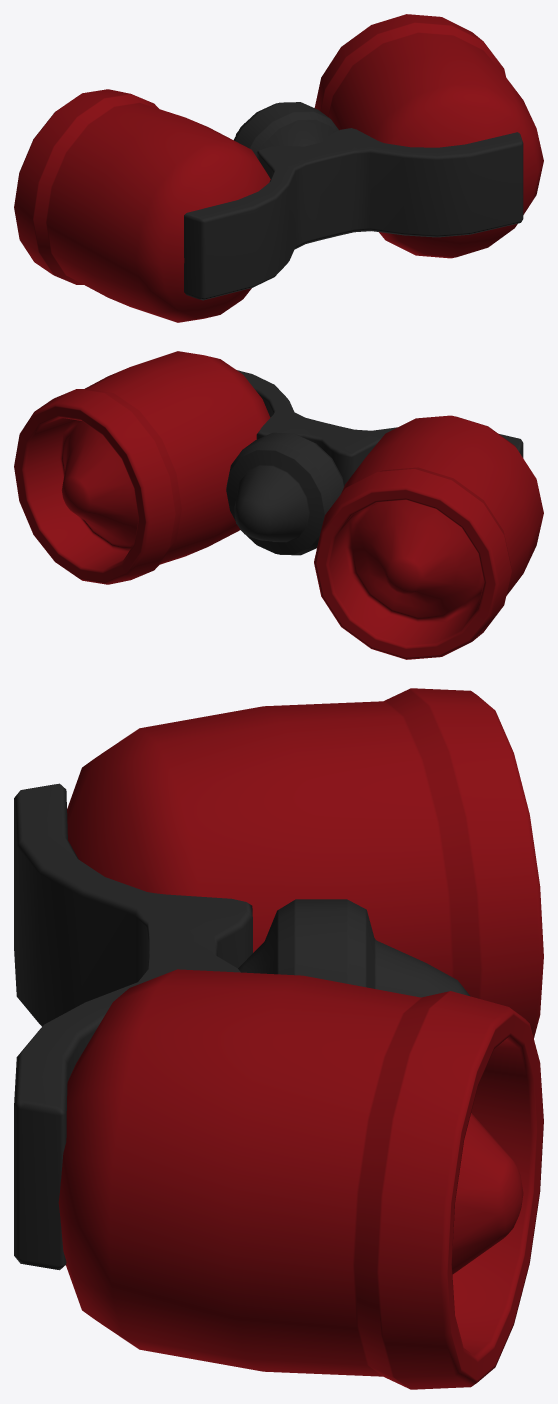
Rendered from Spaceship_main_01_Engine.fbx.
The picture shows the model from 3 angles, top to bottom: view 1: azimuth 30°, elevation 25°; view 2: azimuth 150°, elevation 25°; view 3: azimuth 270°, elevation 25°; orthographic projection. The views are drawn at different scales.
Parts seen in each view (by area): view 1: Spaceship_main_01_Engine; view 2: Spaceship_main_01_Engine; view 3: Spaceship_main_01_Engine.
Part boxes in pixels (box(x1,y1,x2,y2)): Spaceship_main_01_Engine: box(14, 14, 543, 322); Spaceship_main_01_Engine: box(14, 351, 543, 659); Spaceship_main_01_Engine: box(14, 688, 543, 1389).
Size of the model in its own units: 362 by 130 by 171.
